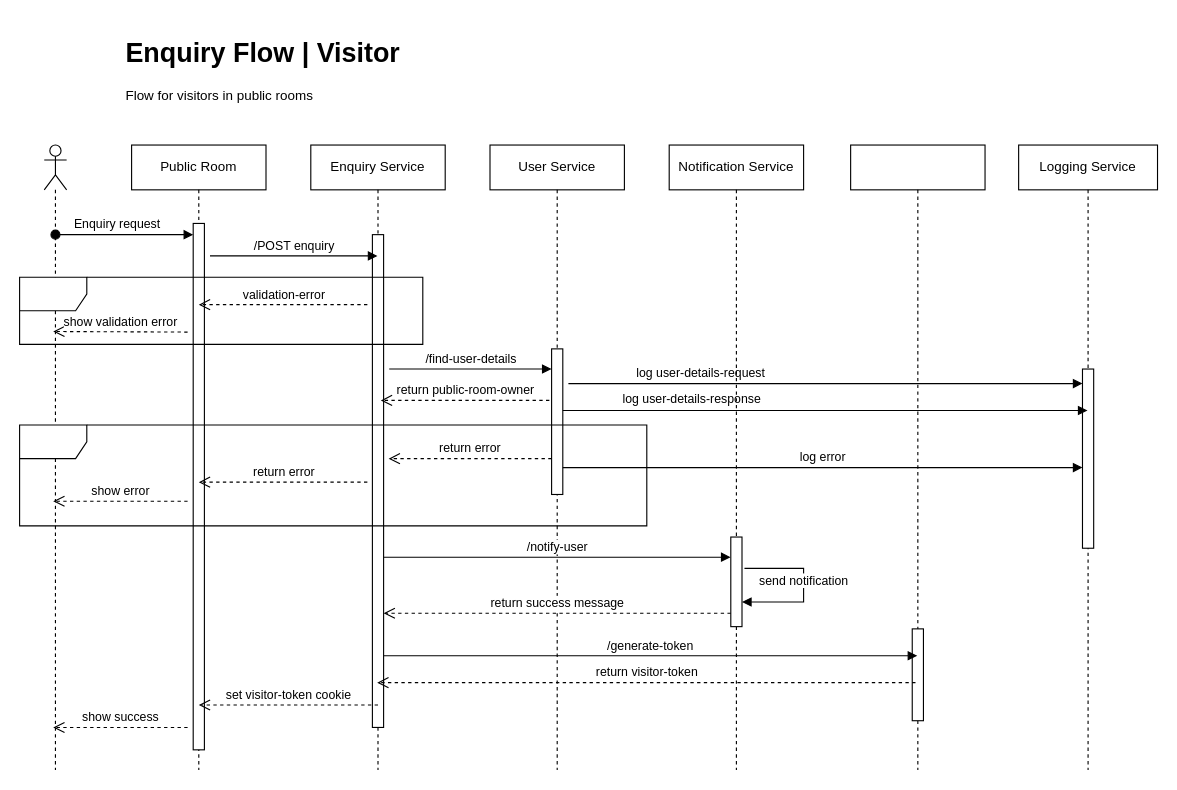
This 1177x790 diagram has some shape labels left out. Here are the shapes that lost their labels. From the top down, the box of each, then its label:
(18, 276, 423, 344): validate-fail
(18, 424, 647, 526): error
(850, 144, 985, 770): Authentication
